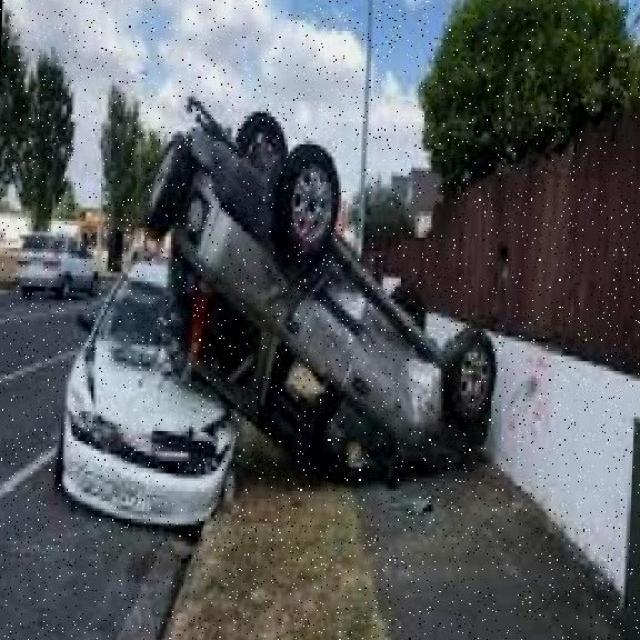accident: (51, 116, 500, 541)
